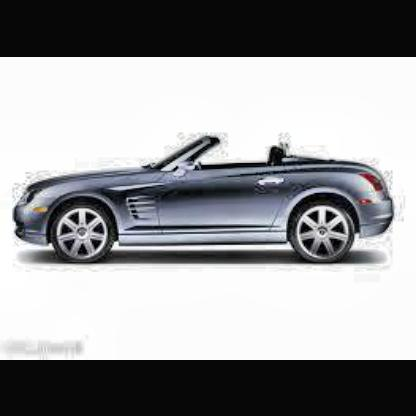Chrysler Crossfire Convertible 2008: (17, 139, 398, 265)
